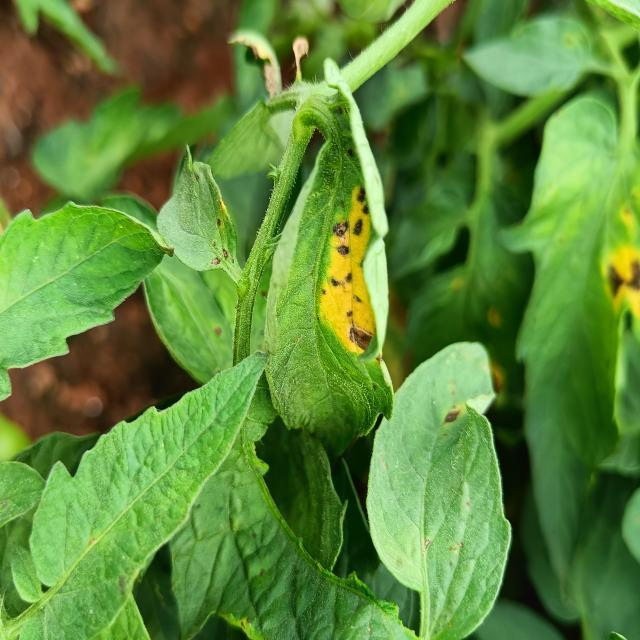Tomato mosaic virus leaf: (259, 99, 398, 454), (152, 139, 244, 277)
